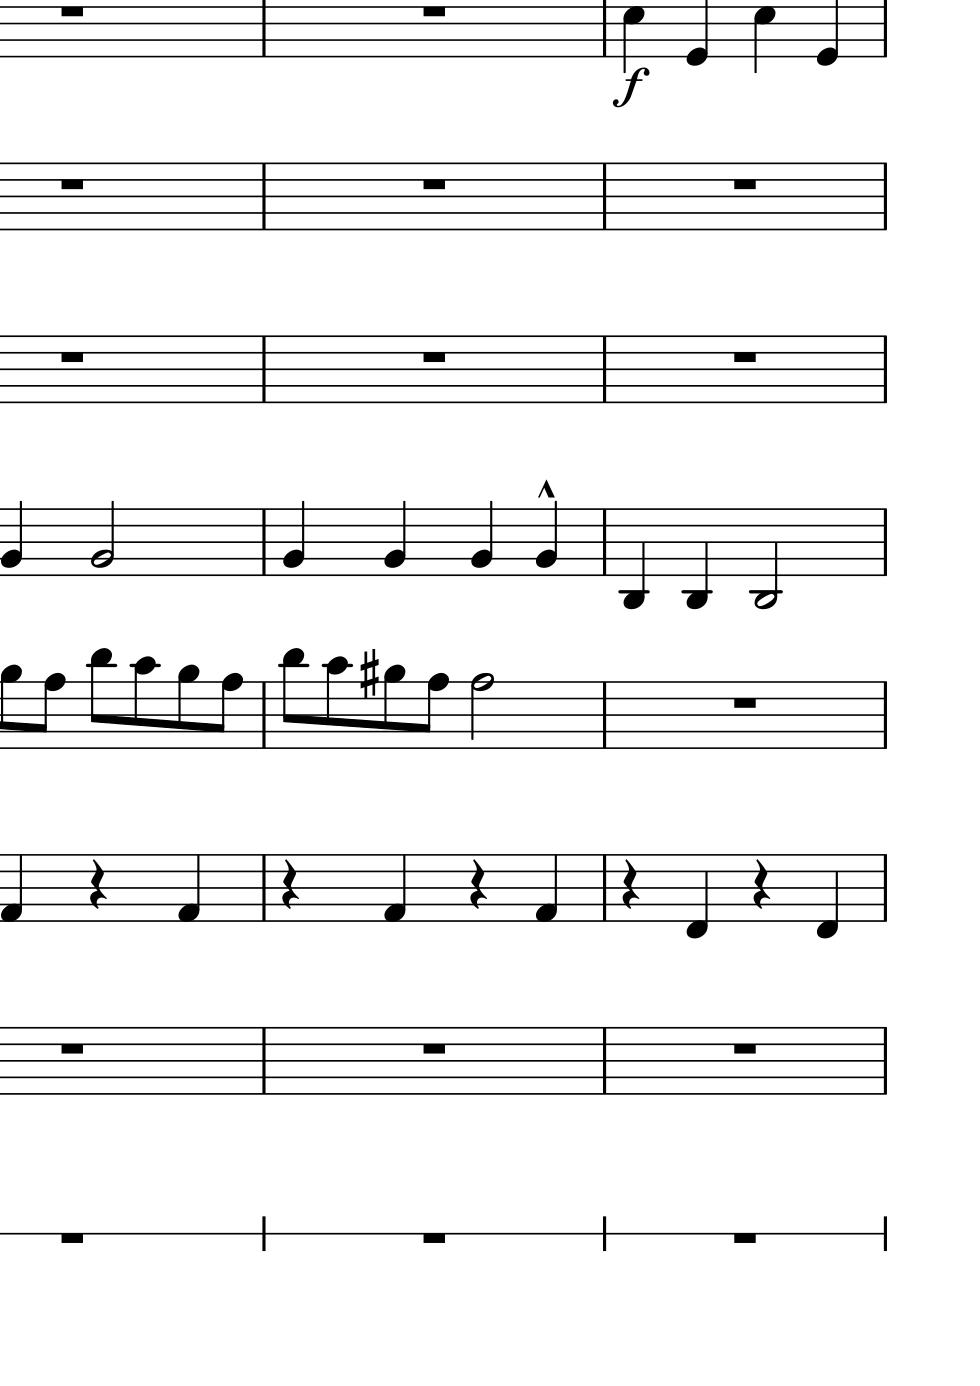2_-3: (749, 505, 782, 611)
2_2: (89, 499, 116, 577)
2_8: (469, 671, 495, 751)
4_-1: (684, 852, 710, 941), (813, 852, 839, 941)
4_-3: (682, 504, 710, 612), (620, 506, 647, 613)
4_1: (175, 854, 202, 925), (381, 853, 407, 924), (532, 854, 559, 924), (1, 853, 24, 924)
4_2: (382, 498, 407, 578), (469, 498, 494, 578), (281, 499, 307, 578), (533, 501, 558, 578), (1, 499, 24, 577)
8_10: (323, 655, 349, 752), (132, 655, 157, 751)
8_11: (87, 645, 115, 751), (279, 646, 307, 751)
8_8: (33, 671, 65, 752), (417, 671, 449, 751), (212, 672, 243, 752)
8_9: (380, 664, 406, 751), (176, 664, 200, 751), (1, 663, 21, 751)
Marcato_above: (537, 478, 557, 502)
Rests1: (727, 1229, 762, 1252), (55, 1229, 90, 1250), (55, 1039, 88, 1058), (56, 1, 88, 20), (55, 174, 87, 193), (55, 347, 87, 366), (418, 1230, 449, 1249), (418, 2, 449, 20), (418, 175, 449, 193), (729, 175, 760, 192), (729, 694, 760, 710), (418, 348, 449, 365), (729, 348, 759, 365), (729, 1040, 760, 1056), (419, 1039, 449, 1056)
Rests4: (86, 858, 108, 912), (278, 859, 300, 913), (750, 858, 771, 913), (467, 858, 488, 912), (619, 859, 640, 913)
Sharp: (357, 647, 379, 699)
Single_barline: (253, 163, 273, 230), (876, 336, 894, 403), (596, 854, 613, 923), (876, 854, 893, 922), (876, 163, 893, 230), (255, 336, 272, 403), (255, 855, 272, 922), (596, 1027, 612, 1095), (596, 163, 612, 231), (876, 1027, 892, 1094), (256, 1028, 272, 1095), (596, 336, 612, 402), (256, 682, 272, 748), (256, 510, 272, 575), (877, 509, 892, 576), (877, 682, 892, 749), (597, 509, 612, 575), (255, 1, 272, 57), (876, 1, 892, 58), (597, 682, 611, 748), (597, 1, 612, 57)
f: (611, 66, 651, 107)
